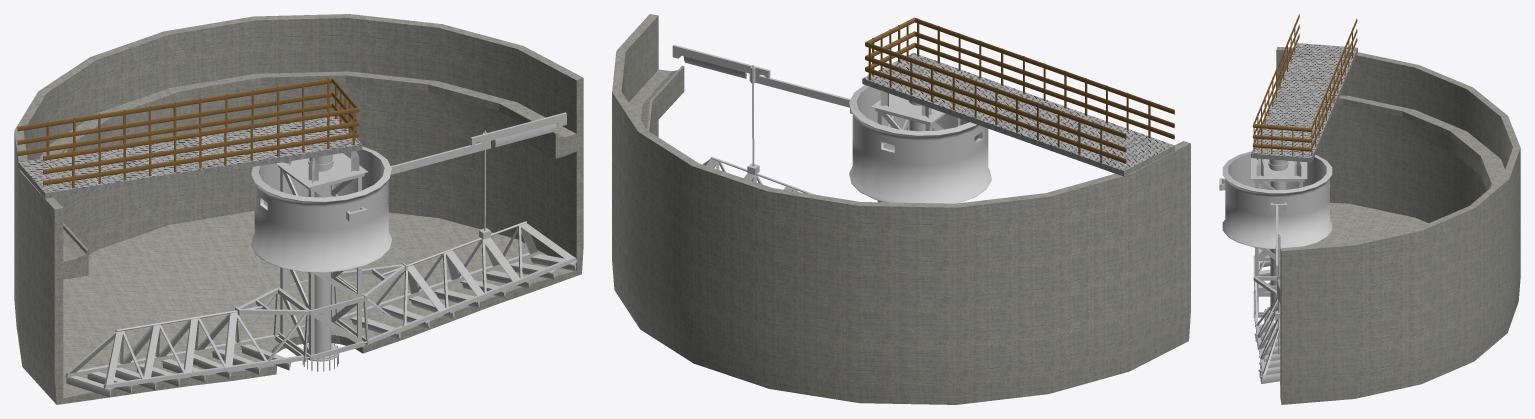
File: Tank&Scraper_v2.5.fbx
3 renders of one model, left to right at view 1: azimuth 30°, elevation 25°; view 2: azimuth 150°, elevation 25°; view 3: azimuth 270°, elevation 25°, orthographic. The views are drawn at different scales.
Visible parts, largest first — view 1: MainTank, scraperArm, railling, Floor; view 2: MainTank, scraperArm, railling, Floor; view 3: MainTank, scraperArm, Floor, railling.
Boxes of the visible parts, left/top/right/bottom form: MainTank: left=14, top=14, right=583, bottom=404; scraperArm: left=65, top=112, right=576, bottom=397; railling: left=17, top=78, right=359, bottom=188; Floor: left=18, top=116, right=362, bottom=198; MainTank: left=612, top=14, right=1190, bottom=404; scraperArm: left=672, top=44, right=991, bottom=203; railling: left=865, top=17, right=1174, bottom=163; Floor: left=862, top=53, right=1174, bottom=176; MainTank: left=1273, top=47, right=1520, bottom=404; scraperArm: left=1219, top=151, right=1332, bottom=383; Floor: left=1251, top=43, right=1357, bottom=162; railling: left=1252, top=14, right=1357, bottom=156.
Size of the model in its own units: 22.7 by 10.74 by 14.12.
